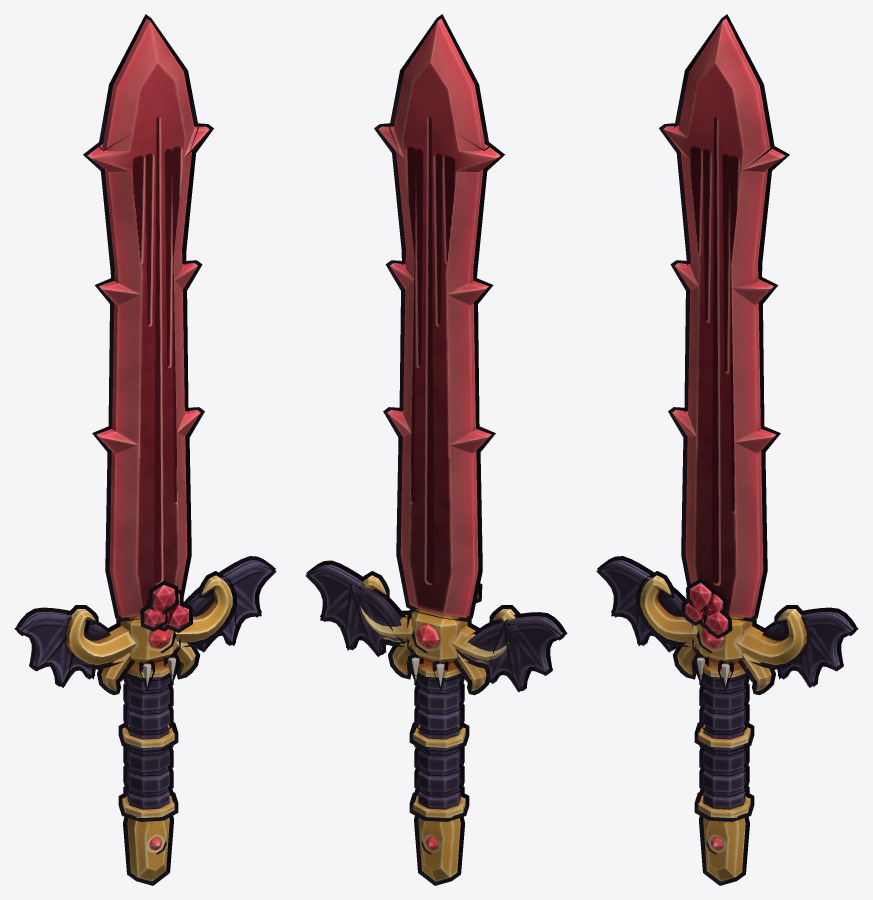
The model's file is VampireSword.fbx.
The picture shows the model from 3 angles, left to right: view 1: azimuth 30°, elevation 25°; view 2: azimuth 150°, elevation 25°; view 3: azimuth 330°, elevation 25°; orthographic projection.
Visible parts, largest first — view 1: VampireSword, VampireSwordOutline; view 2: VampireSword, VampireSwordOutline, VampireSwordBloodGlow; view 3: VampireSword, VampireSwordOutline.
Boxes of the visible parts, box(x1,y1,x2,y2) form: VampireSword: box(19, 18, 271, 881); VampireSwordOutline: box(14, 14, 276, 885); VampireSword: box(310, 18, 562, 881); VampireSwordOutline: box(305, 14, 567, 885); VampireSwordBloodGlow: box(416, 624, 439, 849); VampireSword: box(601, 18, 853, 881); VampireSwordOutline: box(596, 14, 858, 885).
Bounding box in the file's own units: 146 × 470 × 42.7.
Materials: 2 (1 with a texture image).
